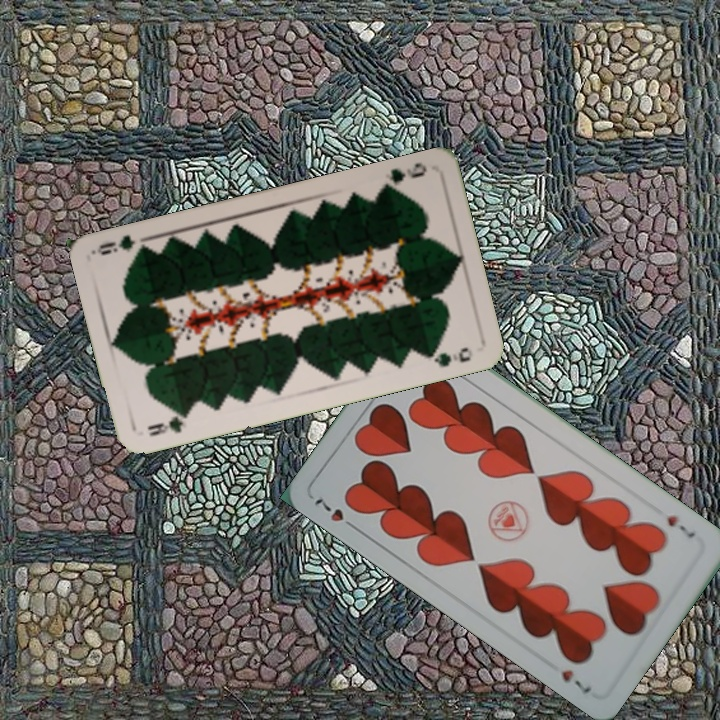G9: (377, 158, 429, 194), (142, 407, 194, 439)
H7: (310, 494, 361, 534), (662, 511, 698, 541)
